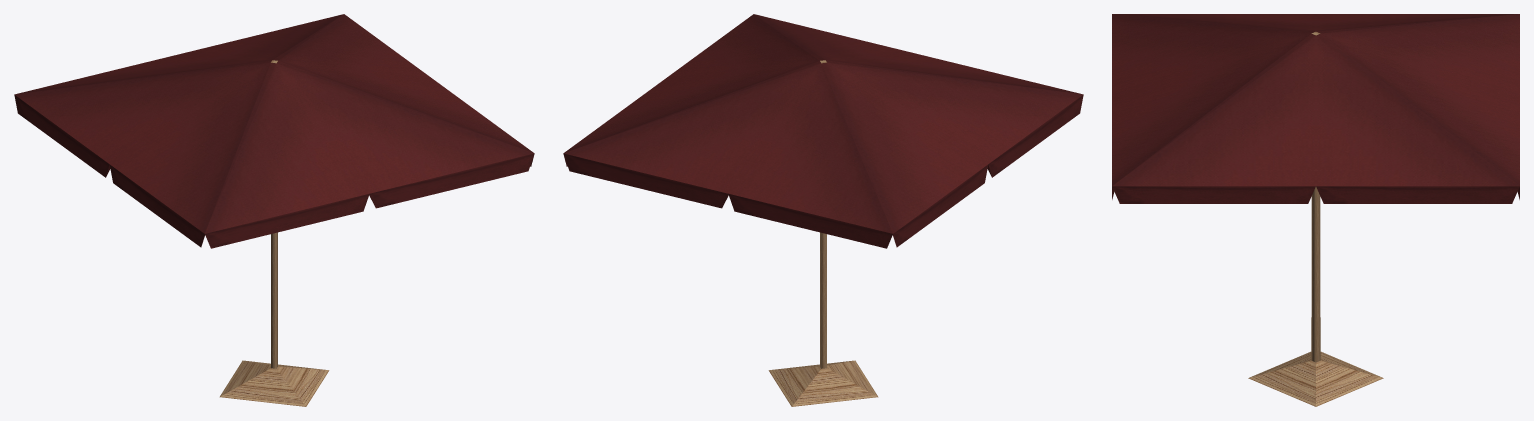
File: Umbrella_07.FBX
The picture shows the model from 3 angles, left to right: view 1: azimuth 30°, elevation 25°; view 2: azimuth 150°, elevation 25°; view 3: azimuth 270°, elevation 25°; orthographic projection. The views are drawn at different scales.
Visible parts, largest first — view 1: Umbrella_07; view 2: Umbrella_07; view 3: Umbrella_07.
Boxes of the visible parts, x1=… form: Umbrella_07: x1=14, y1=14, x2=534, y2=406; Umbrella_07: x1=563, y1=14, x2=1083, y2=406; Umbrella_07: x1=1112, y1=14, x2=1519, y2=406.
Bounding box in the file's own units: 3.16 × 2.95 × 3.16.
